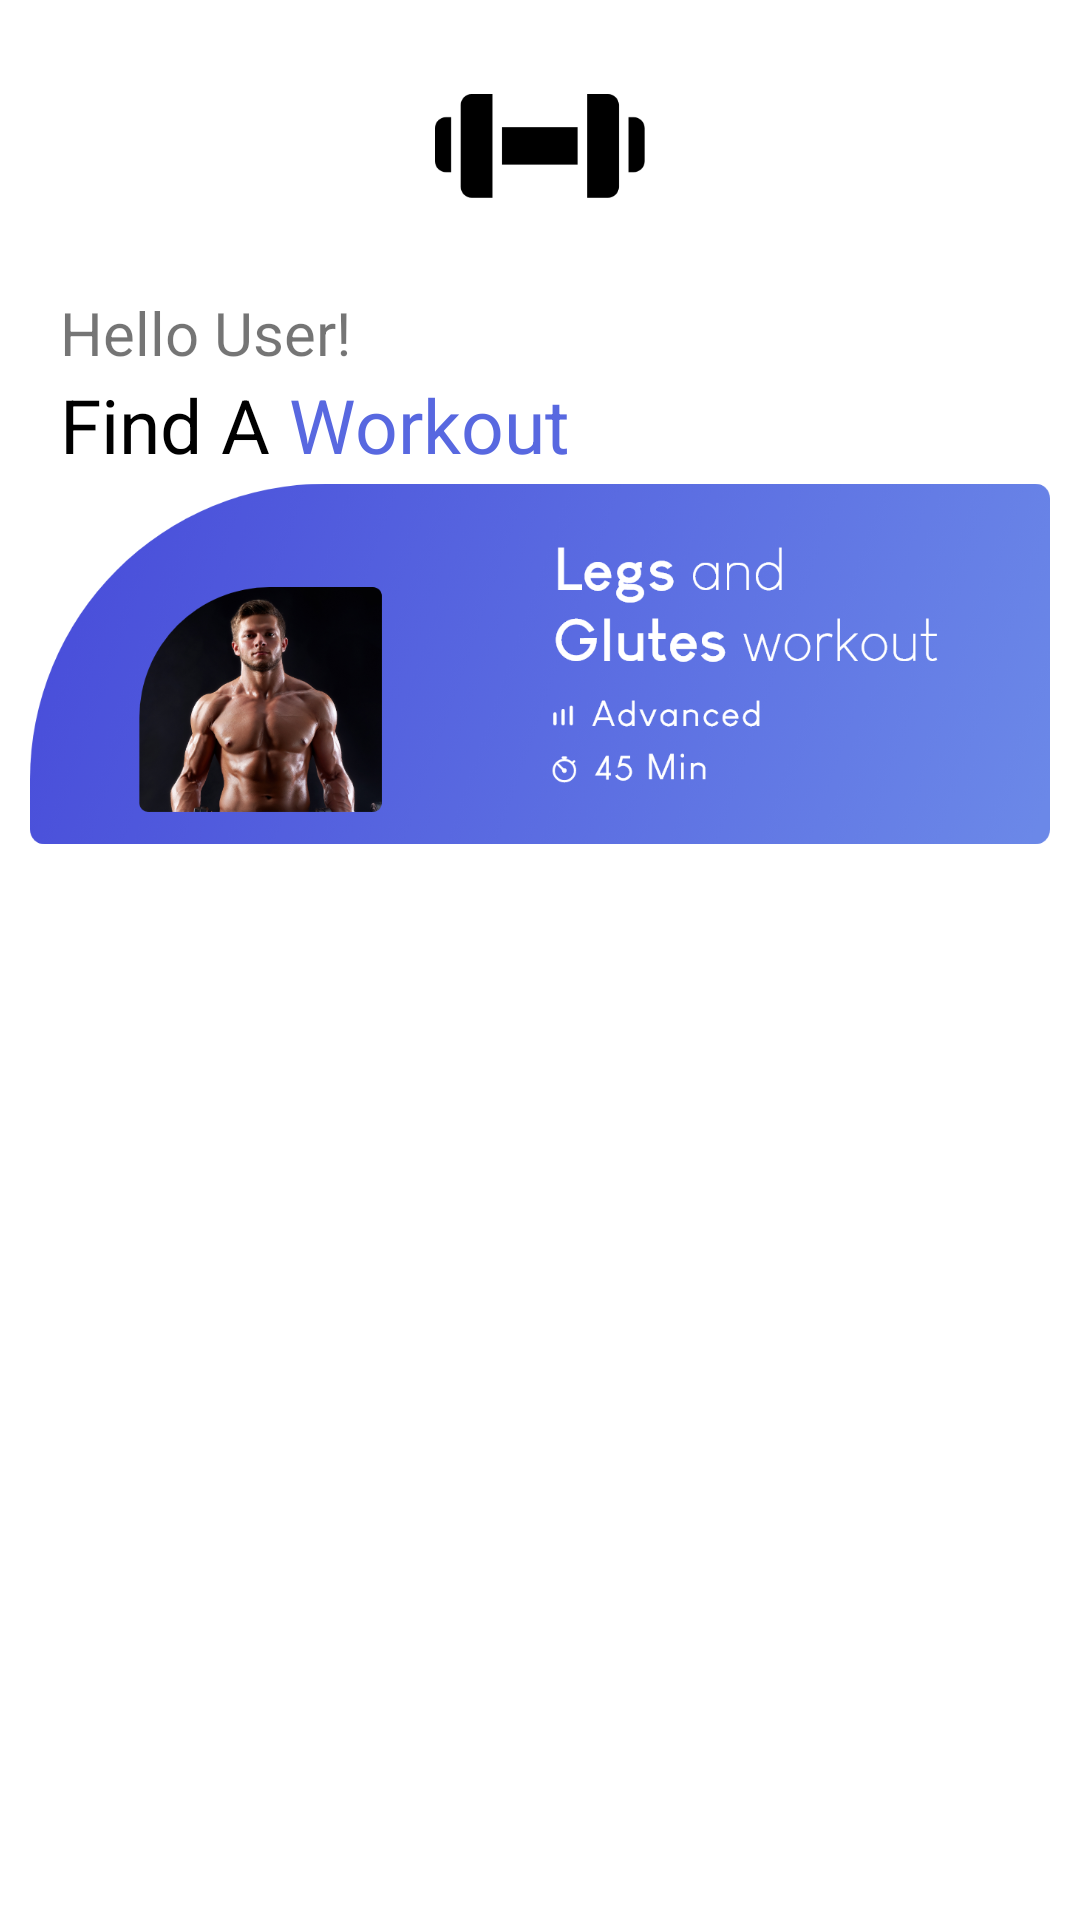

Screen size 1080px×1920px. Icon name, then its box in pixels as {"left": x1, "top": y1, "right": x2, "bottom": y2}:
gym: {"left": 435, "top": 94, "right": 645, "bottom": 198}
